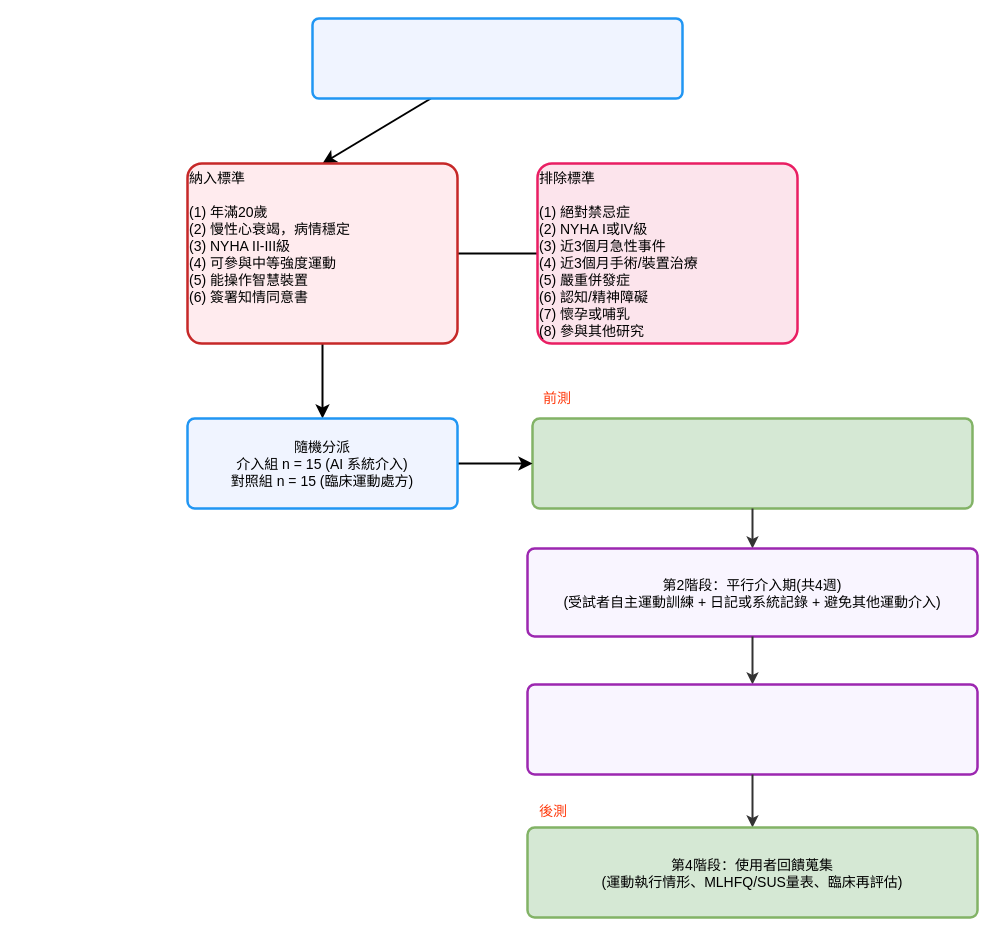
The diagram is 996 pixels wide and 936 high, and some of its shapes have lost their labels. The centre of each missing label's shape, as x and y in pixels:
"受試者招募 N = 30 (台北市某醫學中心心臟內科門診)" belongs at point 497,58.
"第1階段：基線期（介入前） (NYHA分級、人口學特徵、疾病史記錄、生理指標測量)" belongs at point 752,463.
"第3階段：追蹤與安全監控 (運動依從性追蹤、安全監控、不良事件記錄， 臨床專家審查 AI 推薦運動內容之安全性)" belongs at point 752,729.
